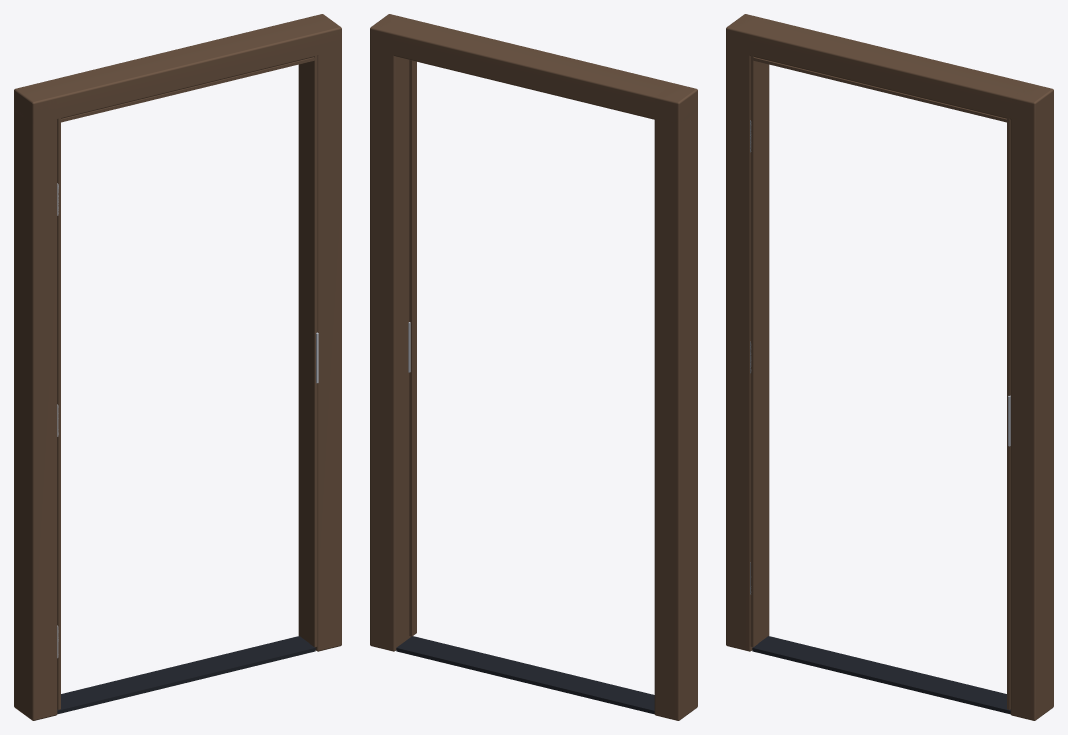
File: DoorFrame.fbx
3 renders of one model, left to right at view 1: azimuth 30°, elevation 25°; view 2: azimuth 150°, elevation 25°; view 3: azimuth 330°, elevation 25°, orthographic.
Visible parts, largest first — view 1: DoorFrame; view 2: DoorFrame; view 3: DoorFrame.
Boxes of the visible parts, x1,y1,x2,y2 form: DoorFrame: (14,14,341,720); DoorFrame: (370,14,697,720); DoorFrame: (726,14,1053,720).
Size of the model in its own units: 0.11 by 0.21 by 0.0125.
